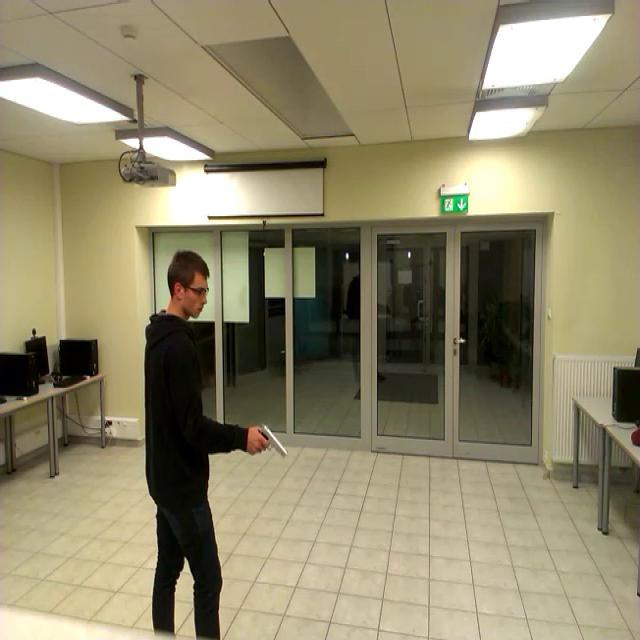Gun: (253, 424, 287, 457)
